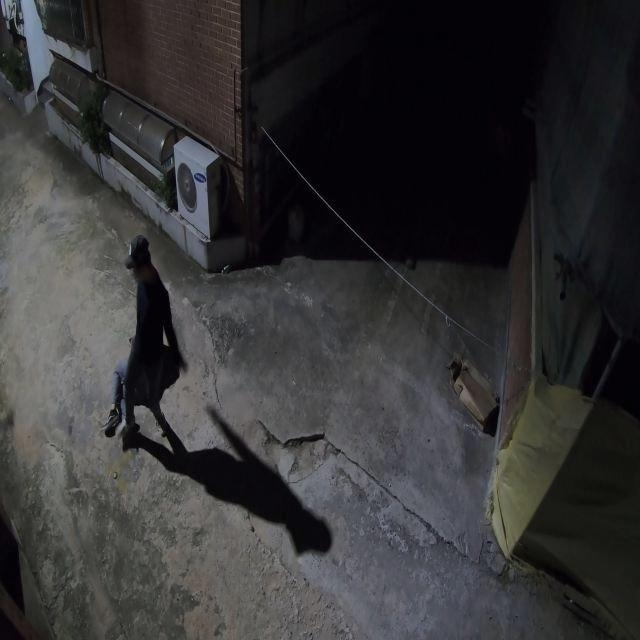fight: (105, 234, 190, 445)
